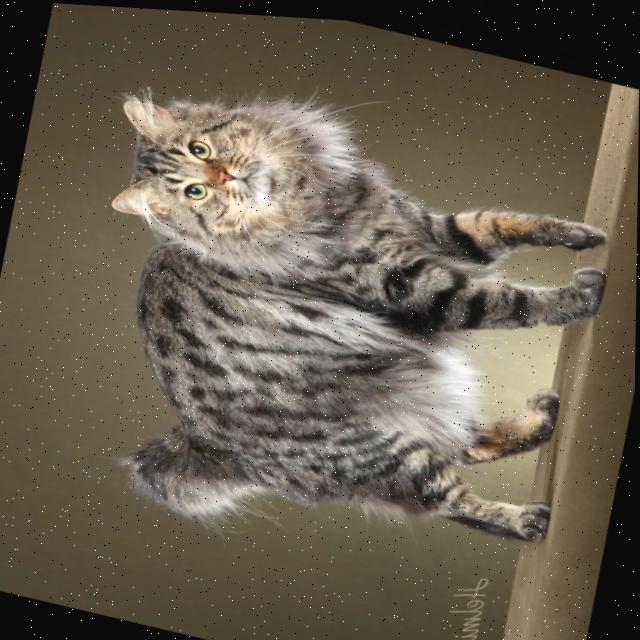American Bobtail: (45, 56, 631, 599)
